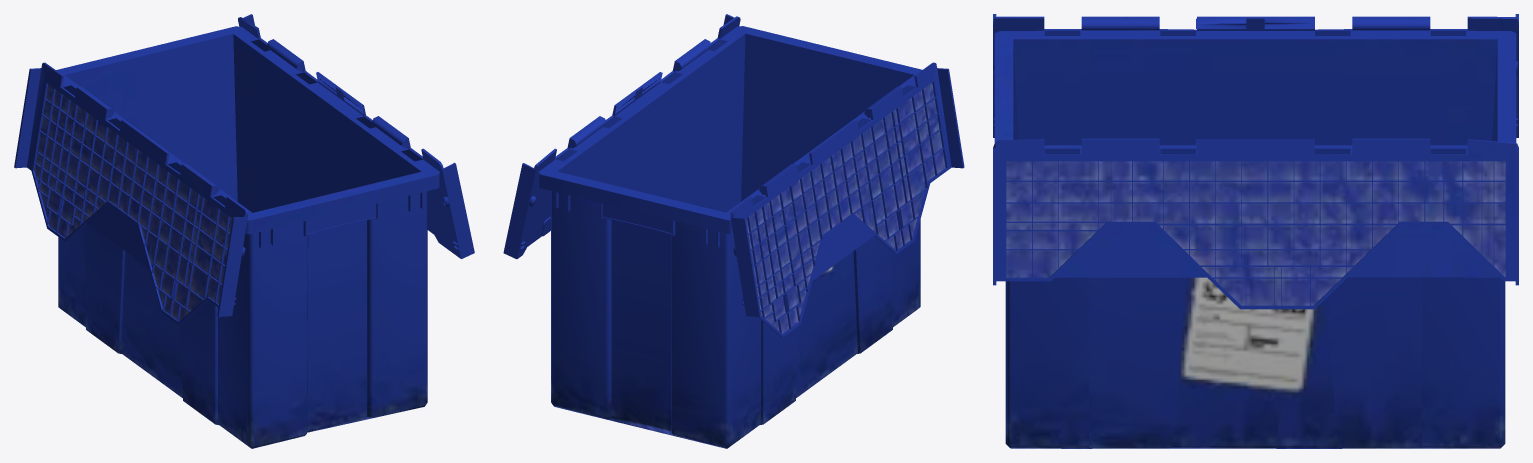
The model's file is industrial_pastic_container.glb.
3 renders of one model, left to right at view 1: azimuth 30°, elevation 25°; view 2: azimuth 150°, elevation 25°; view 3: azimuth 270°, elevation 25°, orthographic. The views are drawn at different scales.
Parts seen in each view (by area): view 1: industrial_pastic_container; view 2: industrial_pastic_container; view 3: industrial_pastic_container.
Boxes of the visible parts, x1,y1,x2,y2 form: industrial_pastic_container: (14,14,474,448); industrial_pastic_container: (503,14,964,448); industrial_pastic_container: (993,14,1518,448).
Size of the model in its own units: 0.4572 by 0.4188 by 0.6314.
Materials: 1 (1 with a texture image).
